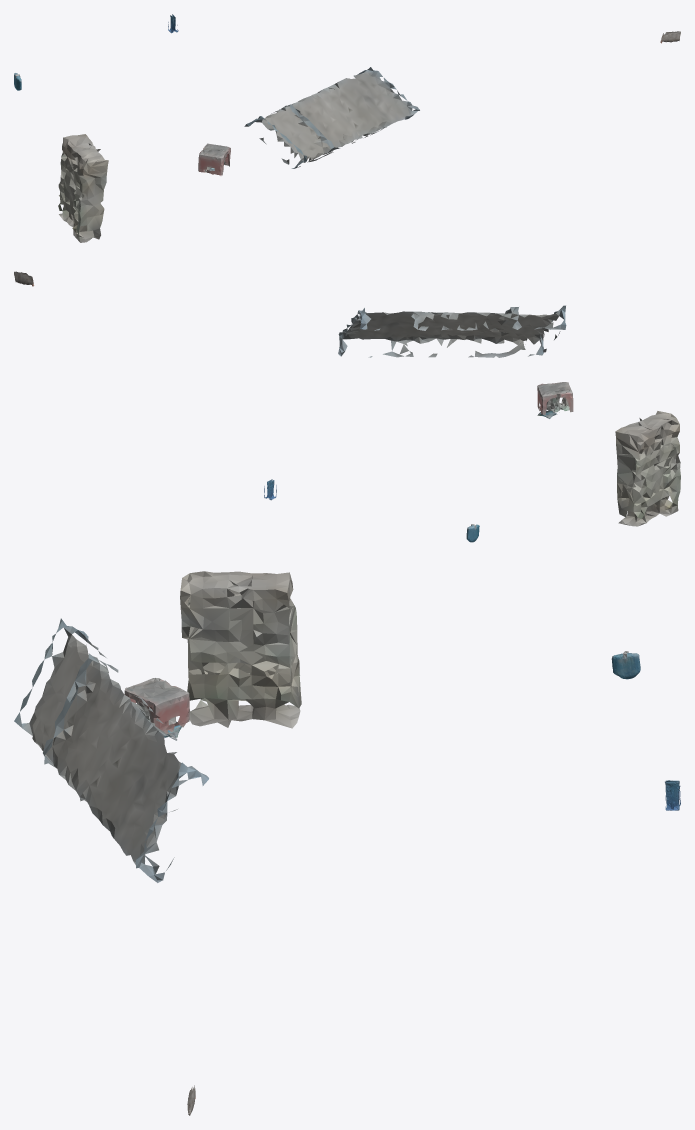
The model's file is models-0-0.glb.
The picture shows the model from 3 angles, top to bottom: view 1: azimuth 30°, elevation 25°; view 2: azimuth 150°, elevation 25°; view 3: azimuth 270°, elevation 25°; orthographic projection. The views are drawn at different scales.
Parts seen in each view (by area): view 1: obj-0-872, obj-0-72, obj-0-799; view 2: obj-0-872, obj-0-72, obj-0-799; view 3: obj-0-872, obj-0-72, obj-0-799.
Boxes of the visible parts, box(x1,y1,x2,y2) form: obj-0-872: box(244, 67, 419, 168); obj-0-72: box(58, 134, 108, 242); obj-0-799: box(198, 143, 230, 175); obj-0-872: box(338, 305, 566, 357); obj-0-72: box(615, 411, 680, 526); obj-0-799: box(537, 382, 573, 415); obj-0-872: box(14, 618, 208, 882); obj-0-72: box(180, 571, 301, 728); obj-0-799: box(124, 678, 189, 733).
Bounding box in the file's own units: 11.34 × 2.19 × 6.28.
